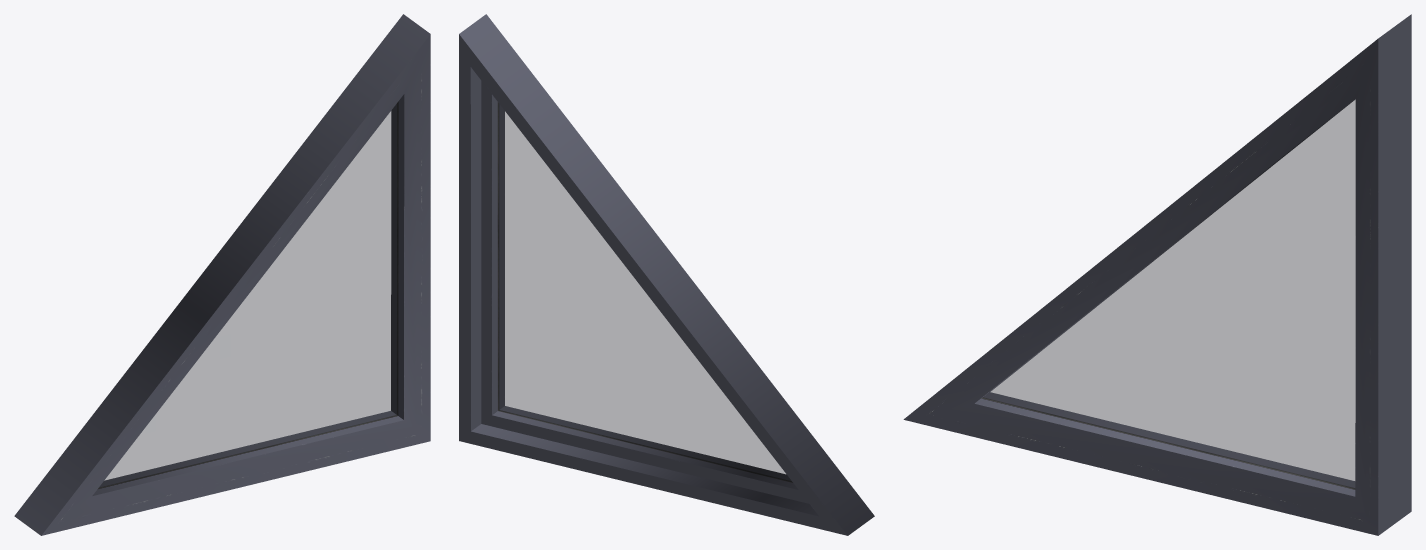
Rendered from SM_Window_Triangle_8th_01.glb.
3 views of the same model, side by side, from view 1: azimuth 30°, elevation 25°; view 2: azimuth 150°, elevation 25°; view 3: azimuth 330°, elevation 25° (orthographic). The views are drawn at different scales.
Visible parts, largest first — view 1: SM_Window_Triangle_8th_01; view 2: SM_Window_Triangle_8th_01; view 3: SM_Window_Triangle_8th_01.
Part boxes in pixels (bbox=[...]): SM_Window_Triangle_8th_01: bbox=[14, 14, 430, 535]; SM_Window_Triangle_8th_01: bbox=[459, 14, 874, 535]; SM_Window_Triangle_8th_01: bbox=[903, 14, 1411, 535].
Size of the model in its own units: 2 by 2 by 0.2434.
Materials: 2 (2 with a texture image).
